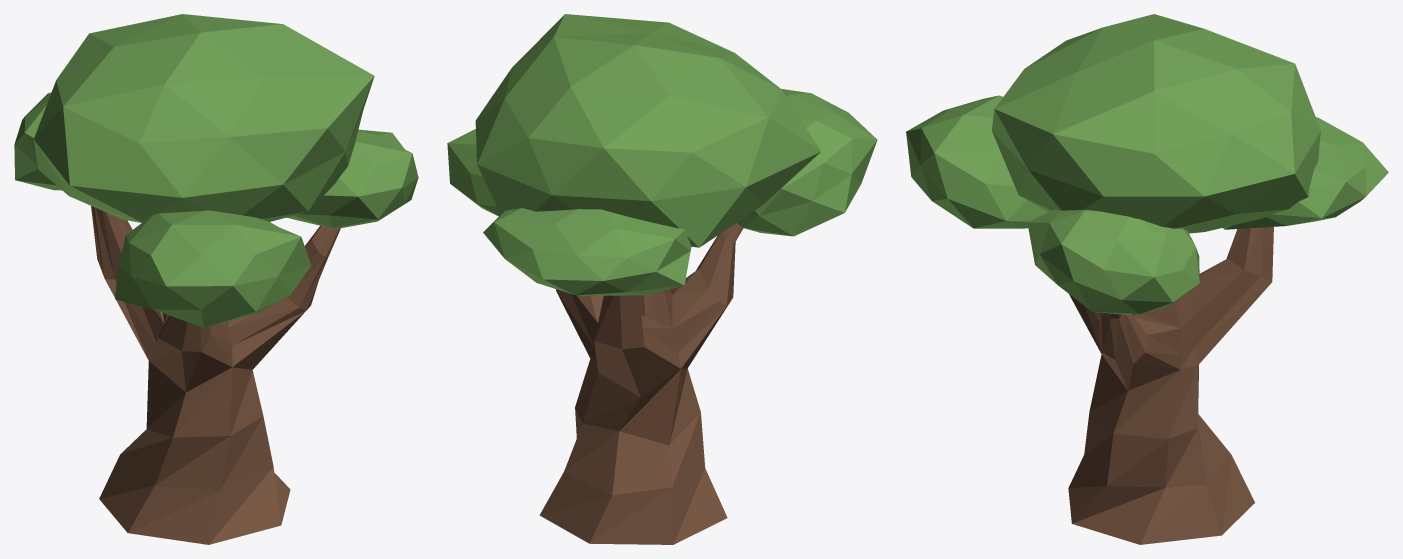
Rendered from Tree_Flat.FBX.
3 views of the same model, side by side, from view 1: azimuth 30°, elevation 25°; view 2: azimuth 150°, elevation 25°; view 3: azimuth 270°, elevation 25° (orthographic). The views are drawn at different scales.
Parts seen in each view (by area): view 1: GeoSphere009, Cylinder002, GeoSphere011, GeoSphere010, GeoSphere012; view 2: GeoSphere009, Cylinder002, GeoSphere012, GeoSphere011, GeoSphere010; view 3: GeoSphere009, Cylinder002, GeoSphere010, GeoSphere011, GeoSphere012.
Boxes of the visible parts, bbox=[...] form: GeoSphere009: bbox=[33, 14, 374, 222]; Cylinder002: bbox=[91, 206, 340, 544]; GeoSphere011: bbox=[115, 210, 311, 327]; GeoSphere010: bbox=[287, 129, 418, 228]; GeoSphere012: bbox=[14, 92, 61, 190]; GeoSphere009: bbox=[475, 14, 820, 247]; Cylinder002: bbox=[539, 223, 743, 544]; GeoSphere012: bbox=[483, 208, 691, 295]; GeoSphere011: bbox=[736, 89, 877, 236]; GeoSphere010: bbox=[447, 129, 500, 216]; GeoSphere009: bbox=[992, 14, 1320, 233]; Cylinder002: bbox=[1068, 226, 1273, 544]; GeoSphere010: bbox=[1027, 209, 1199, 314]; GeoSphere011: bbox=[906, 95, 1047, 228]; GeoSphere012: bbox=[1223, 117, 1388, 229].
Size of the model in its own units: 42.65 by 54.35 by 51.15.
